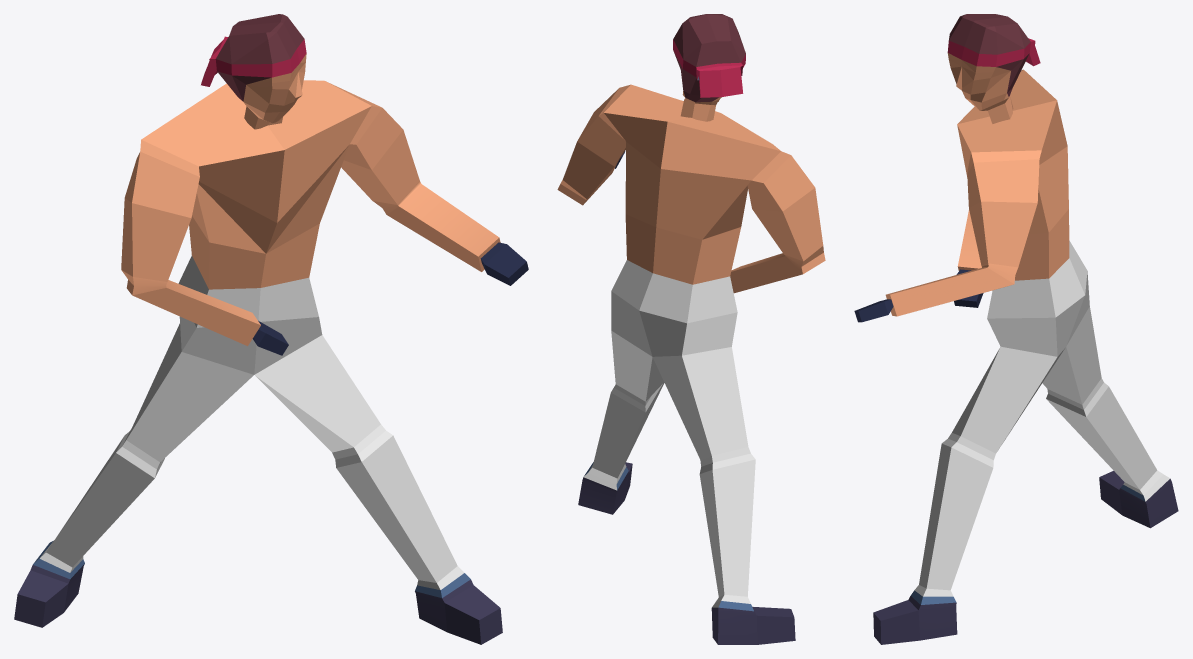
File: character_in_lobby.fbx
The picture shows the model from 3 angles, left to right: view 1: azimuth 30°, elevation 25°; view 2: azimuth 150°, elevation 25°; view 3: azimuth 270°, elevation 25°; orthographic projection. The views are drawn at different scales.
Parts seen in each view (by area): view 1: PlayerInLobby; view 2: PlayerInLobby; view 3: PlayerInLobby.
Part boxes in pixels (<box>): PlayerInLobby: <box>14,14,528,644</box>; PlayerInLobby: <box>557,14,825,644</box>; PlayerInLobby: <box>854,14,1178,644</box>.
Size of the model in its own units: 102 by 163 by 86.47.
